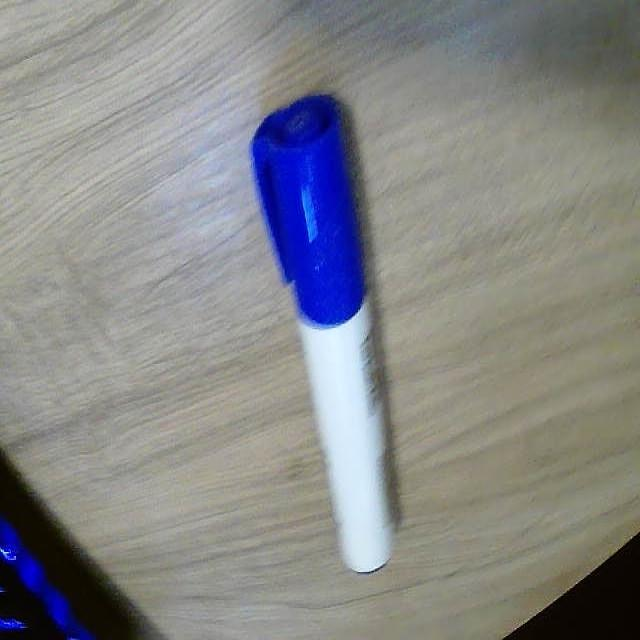caneta: (239, 86, 435, 604)
